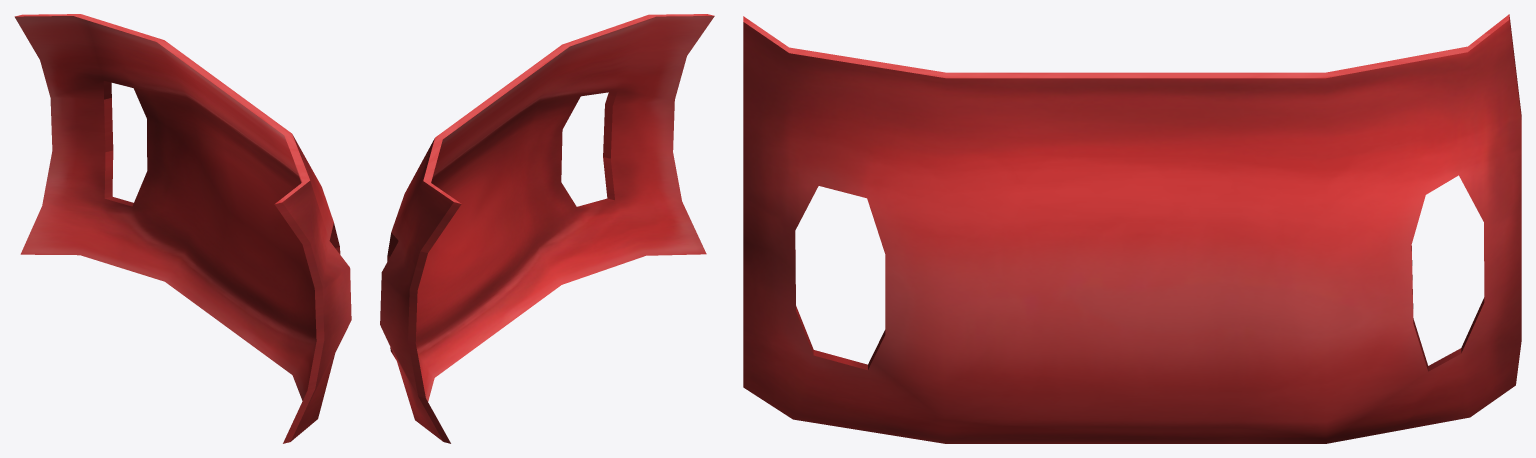
File: netje.obj
3 renders of one model, left to right at view 1: azimuth 30°, elevation 25°; view 2: azimuth 150°, elevation 25°; view 3: azimuth 270°, elevation 25°, orthographic. The views are drawn at different scales.
Parts seen in each view (by area): view 1: netje; view 2: netje; view 3: netje.
Boxes of the visible parts, x1,y1,x2,y2 form: netje: (14, 14, 351, 443); netje: (380, 14, 714, 443); netje: (743, 14, 1521, 443).
Size of the model in its own units: 0.7137 by 1.27 by 2.48.
1 material, 1 textured.
